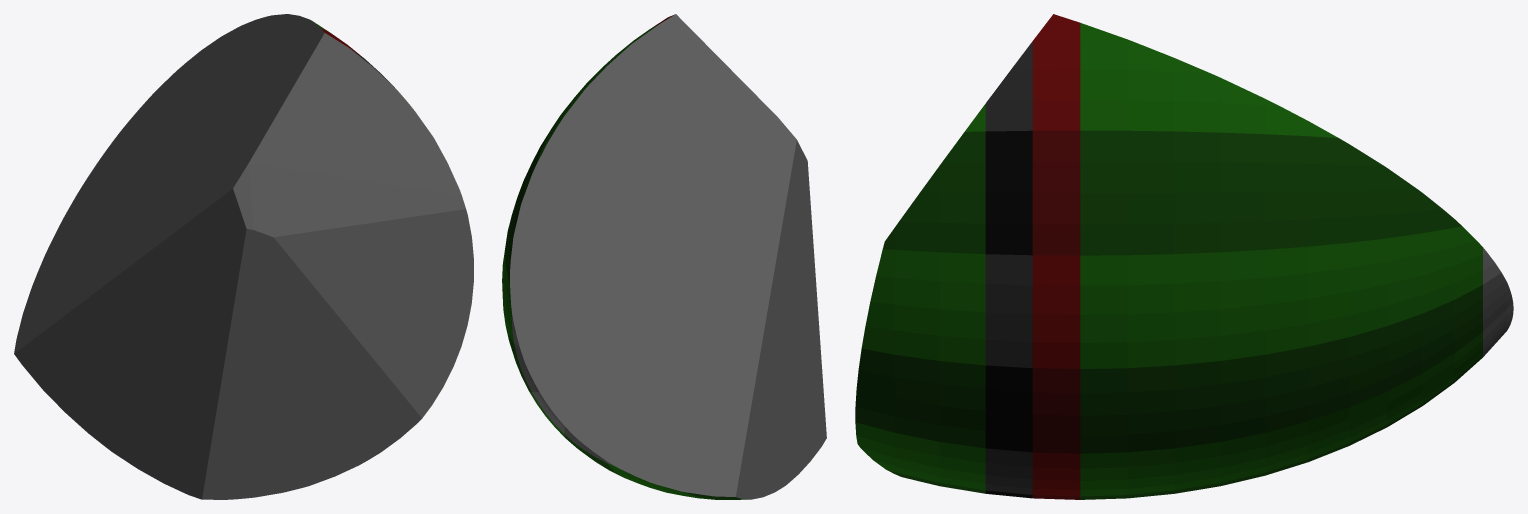
Rendered from Mortarmellon piece3.glb.
3 views of the same model, side by side, from view 1: azimuth 30°, elevation 25°; view 2: azimuth 150°, elevation 25°; view 3: azimuth 270°, elevation 25° (orthographic). The views are drawn at different scales.
Parts seen in each view (by area): view 1: Mortarmelon Body_cell.002; view 2: Mortarmelon Body_cell.002; view 3: Mortarmelon Body_cell.002.
Boxes of the visible parts, left/top/right/bottom form: Mortarmelon Body_cell.002: left=14, top=14, right=473, bottom=499; Mortarmelon Body_cell.002: left=502, top=14, right=826, bottom=499; Mortarmelon Body_cell.002: left=855, top=14, right=1513, bottom=499.
Bounding box in the file's own units: 1.27 × 1.8 × 2.02.
